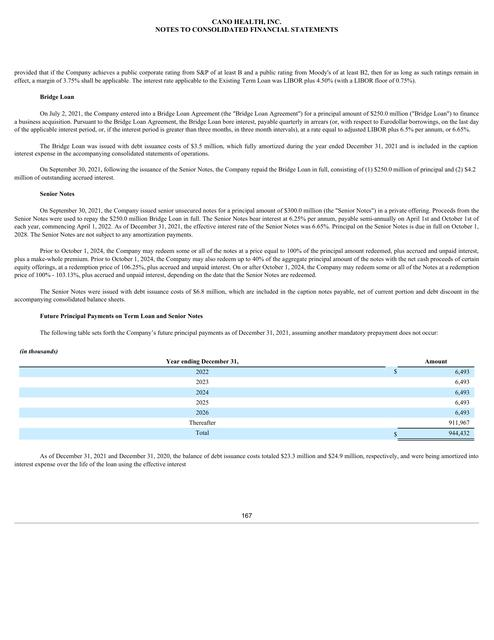box: (18, 347, 476, 442)
